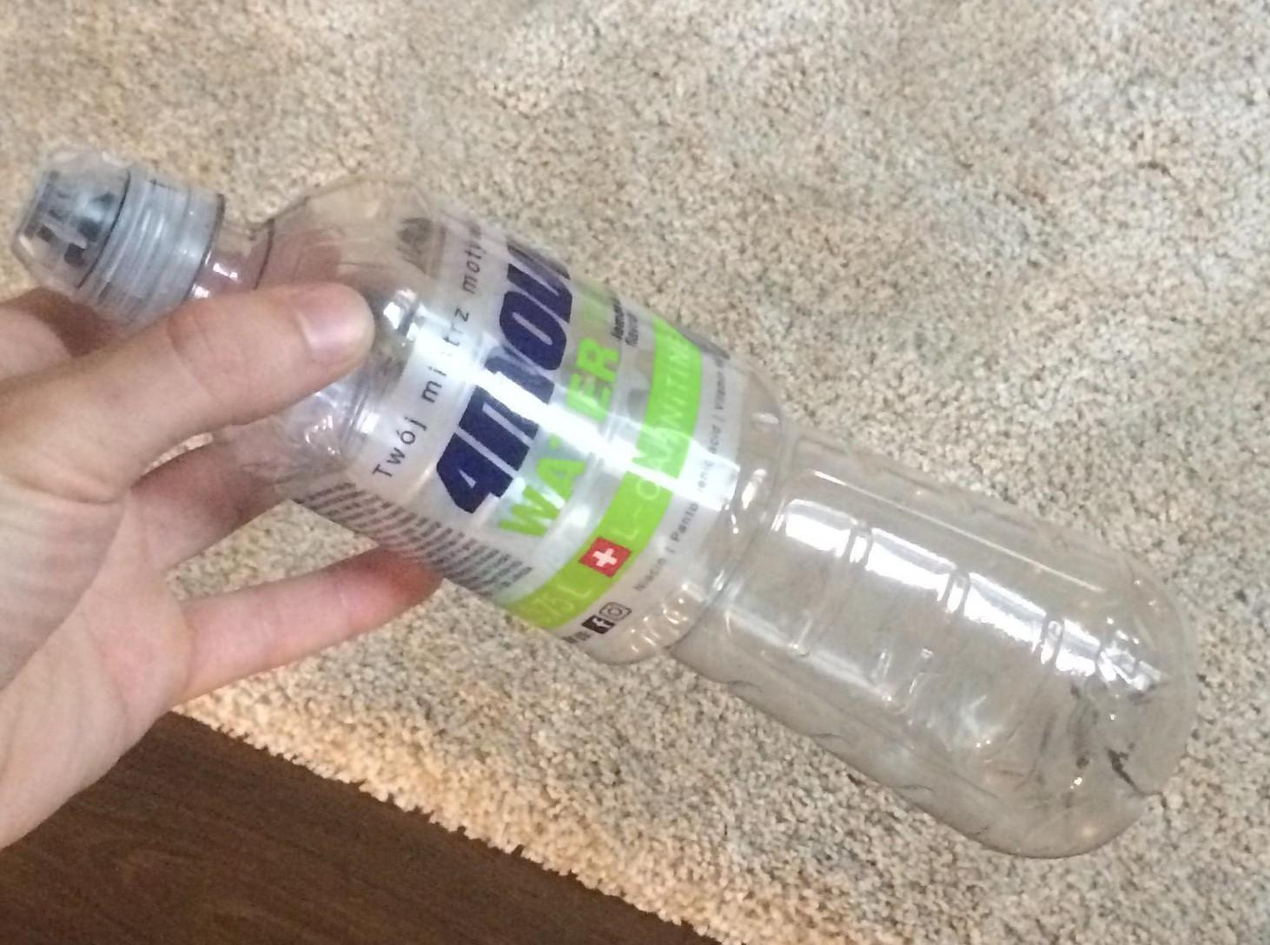Plastic: (0, 125, 1240, 909)
